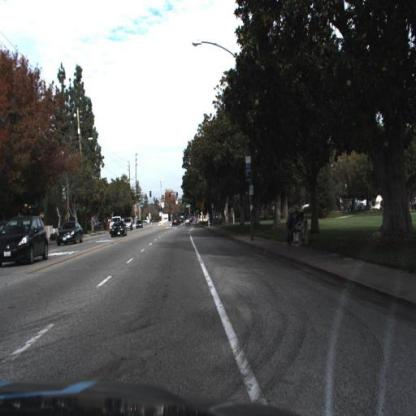car: (1, 215, 49, 271), (53, 222, 85, 249), (110, 219, 130, 241), (172, 214, 184, 230)
pedestrian: (294, 213, 311, 251)
